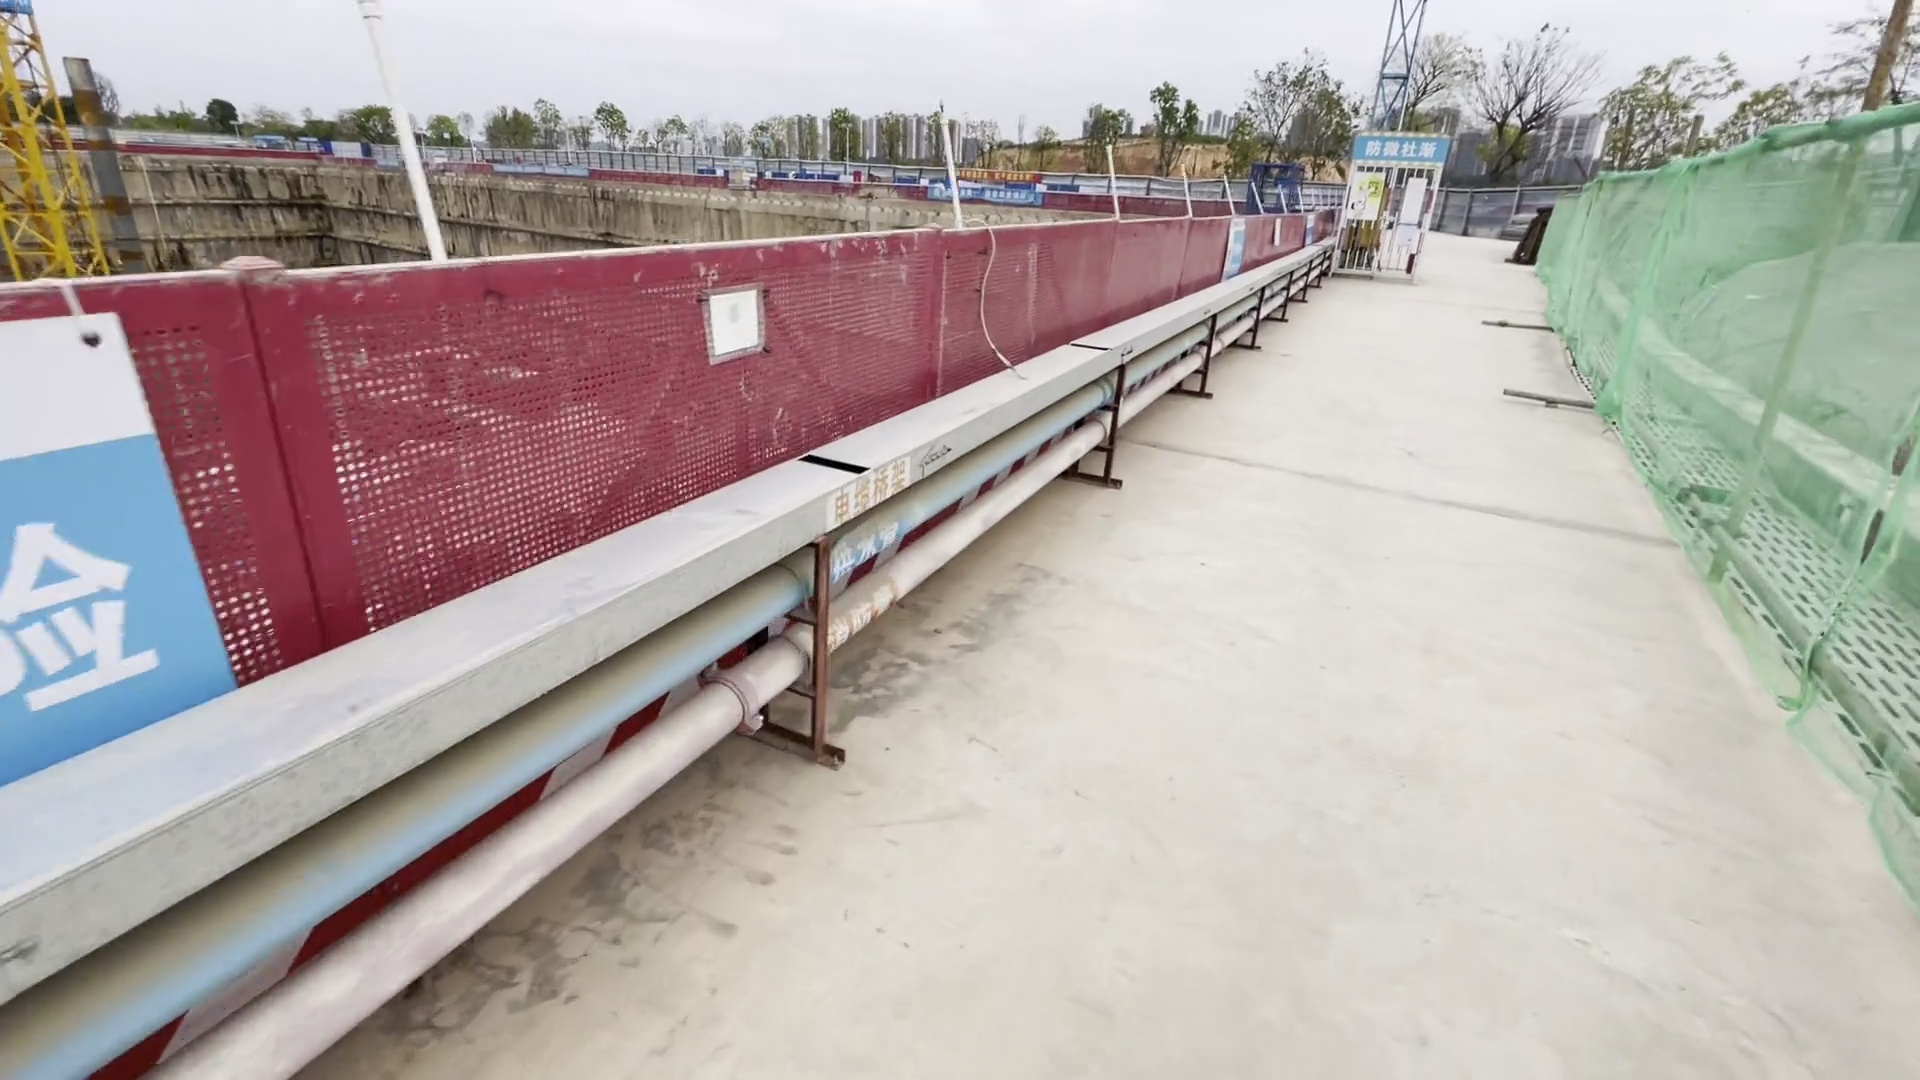fence: (1, 222, 1300, 800)
slogan: (949, 167, 1044, 204), (1364, 128, 1436, 170)
